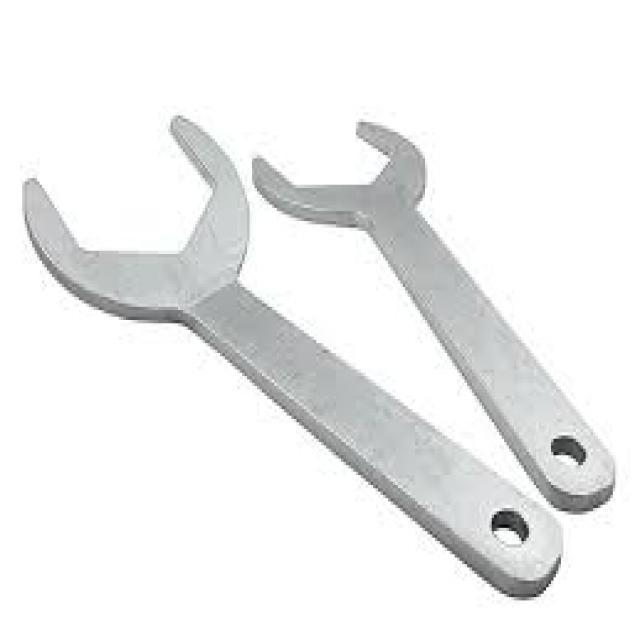wrench: (14, 109, 564, 602), (247, 115, 618, 514)
